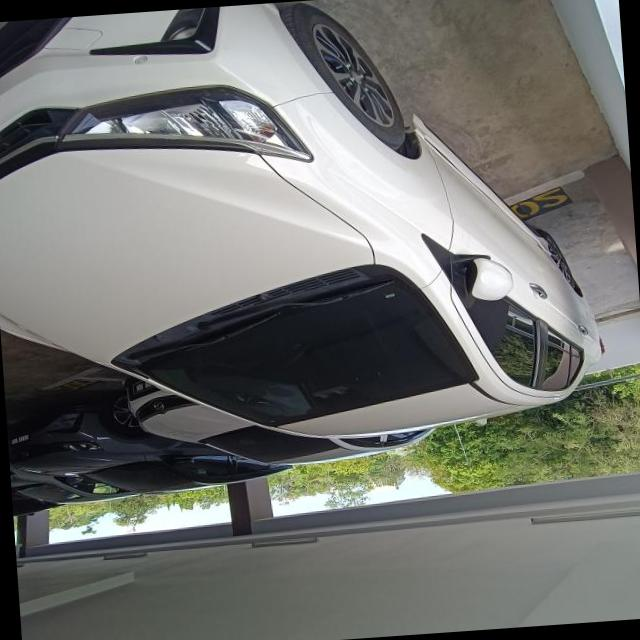PeroduaBezza: (0, 0, 610, 464)
